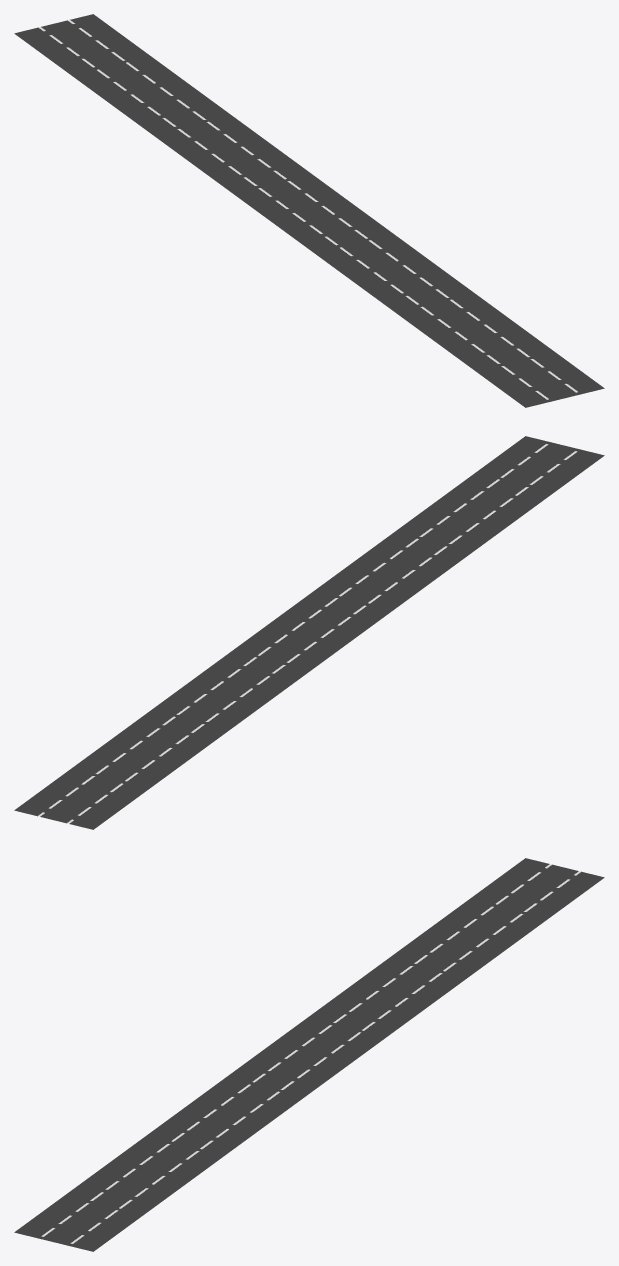
File: S4 ROAD.fbx
3 views of the same model, one above another, from view 1: azimuth 30°, elevation 25°; view 2: azimuth 150°, elevation 25°; view 3: azimuth 330°, elevation 25° (orthographic).
Visible parts, largest first — view 1: pPlane1; view 2: pPlane1; view 3: pPlane1.
Boxes of the visible parts, x1=… form: pPlane1: x1=14, y1=14, x2=604, y2=407; pPlane1: x1=14, y1=436, x2=604, y2=829; pPlane1: x1=14, y1=858, x2=604, y2=1251.
Bounding box in the file's own units: 9.46 × 0 × 106.
1 material, 1 textured.
